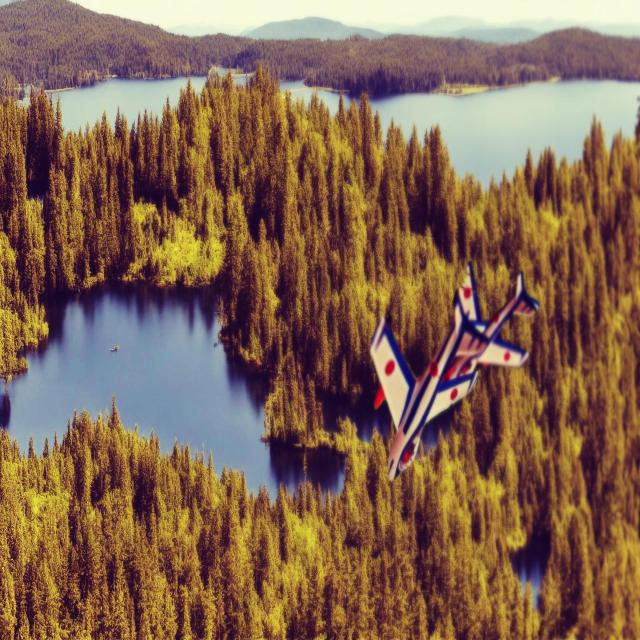airplane: (368, 260, 540, 483)
